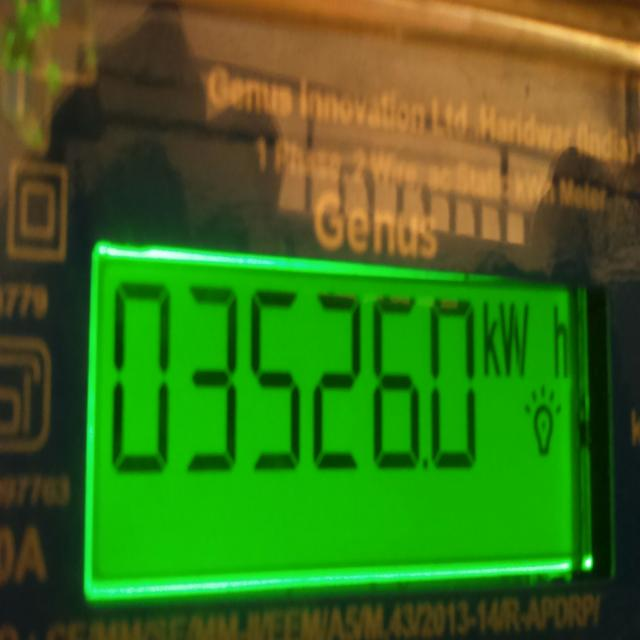.: (419, 439, 434, 486)
0: (108, 264, 182, 494), (431, 290, 485, 469)
2: (306, 285, 363, 504)
3: (182, 279, 247, 478)
5: (241, 283, 311, 487)
6: (368, 283, 432, 474)
